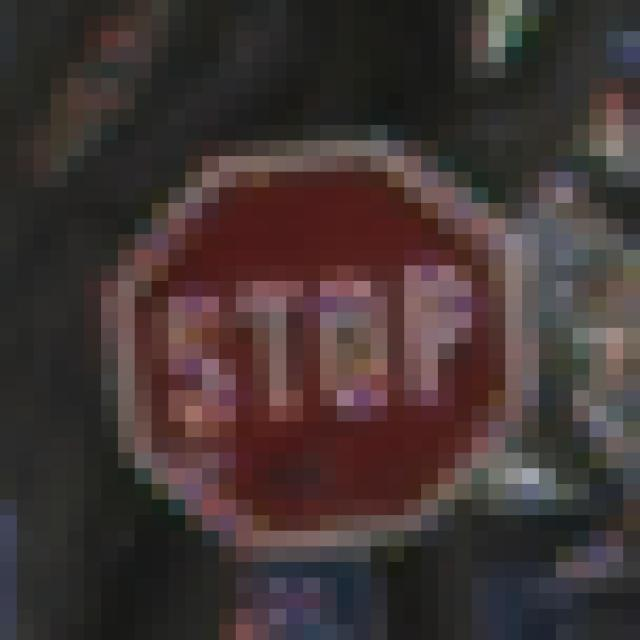STOP: (85, 95, 557, 563)
